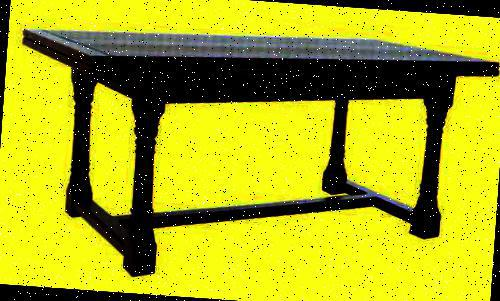Mesa: (8, 21, 498, 300)
